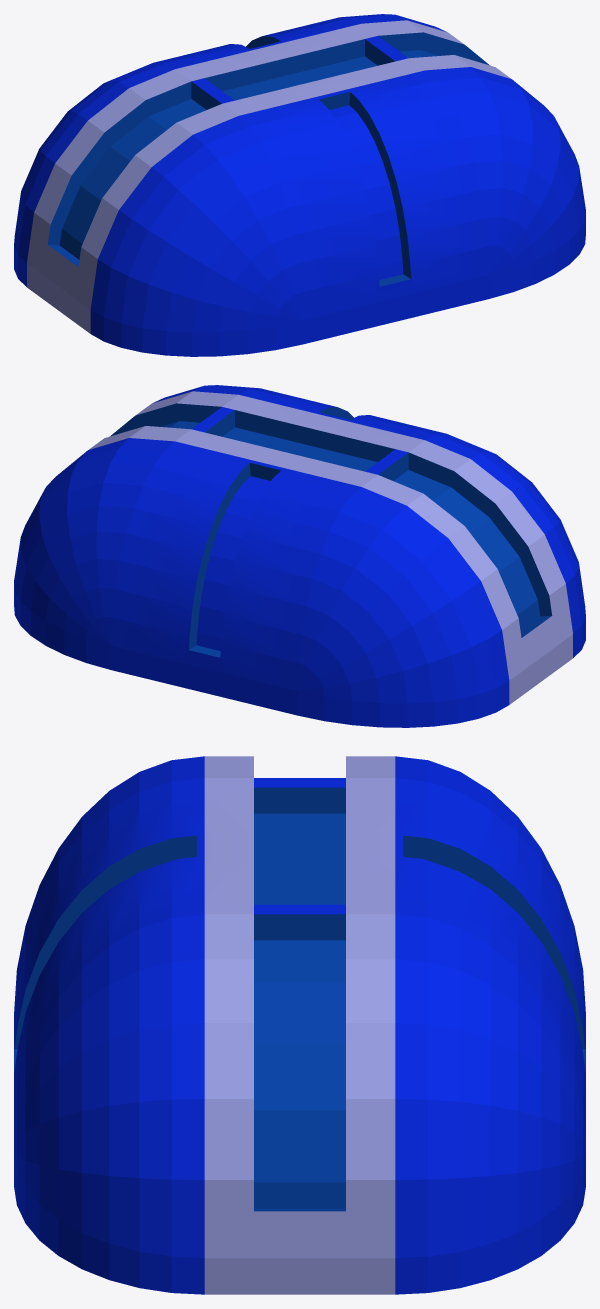
File: buttonmodel1.fbx
3 renders of one model, top to bottom at view 1: azimuth 30°, elevation 25°; view 2: azimuth 150°, elevation 25°; view 3: azimuth 270°, elevation 25°, orthographic. The views are drawn at different scales.
Visible parts, largest first — view 1: buttonright, buttonmid, buttonleft; view 2: buttonright, buttonmid, buttonleft; view 3: buttonleft, buttonmid, buttonright.
Boxes of the visible parts, box(x1,y1,x2,y2) form: buttonright: box(14, 62, 302, 356); buttonmid: box(154, 17, 488, 344); buttonleft: box(341, 14, 585, 298); buttonright: box(297, 433, 585, 727); buttonmid: box(111, 388, 445, 715); buttonleft: box(14, 385, 258, 669); buttonleft: box(14, 914, 585, 1294); buttonmid: box(14, 778, 585, 1147); buttonright: box(14, 756, 585, 1006).
Bounding box in the file's own units: 3.2 × 1.15 × 2.2.
